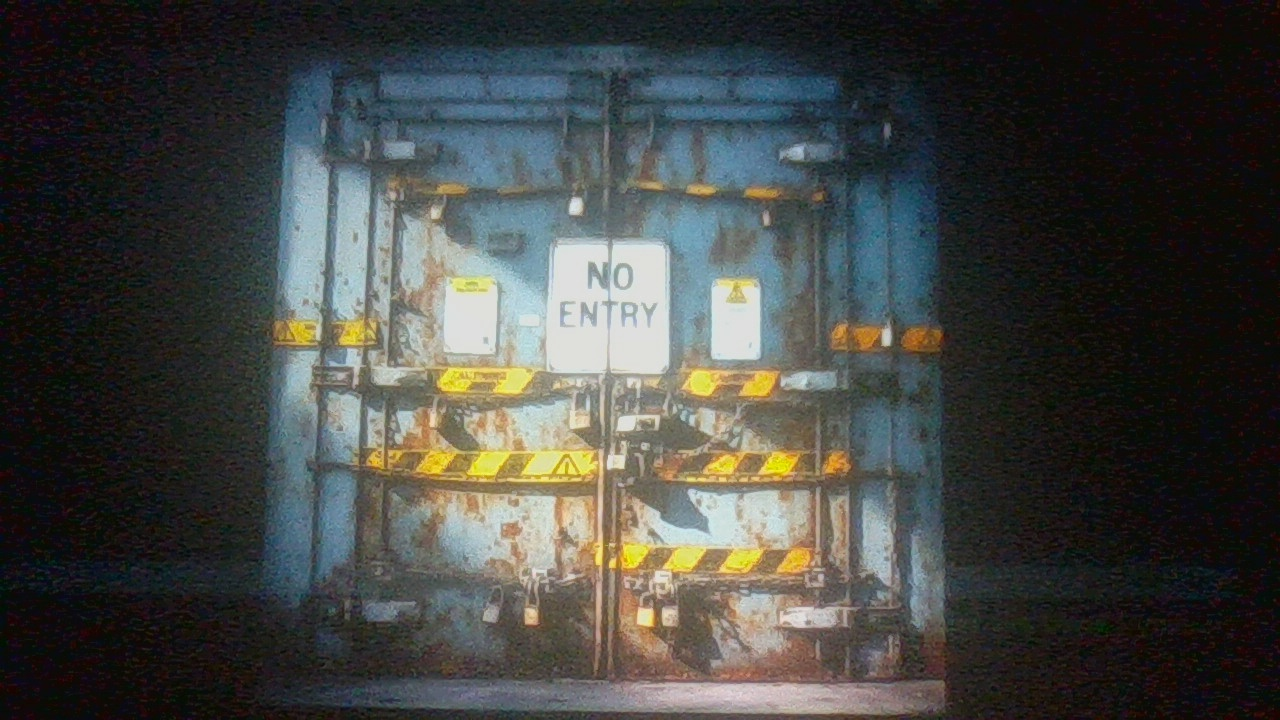no_entry: (547, 230, 674, 387)
